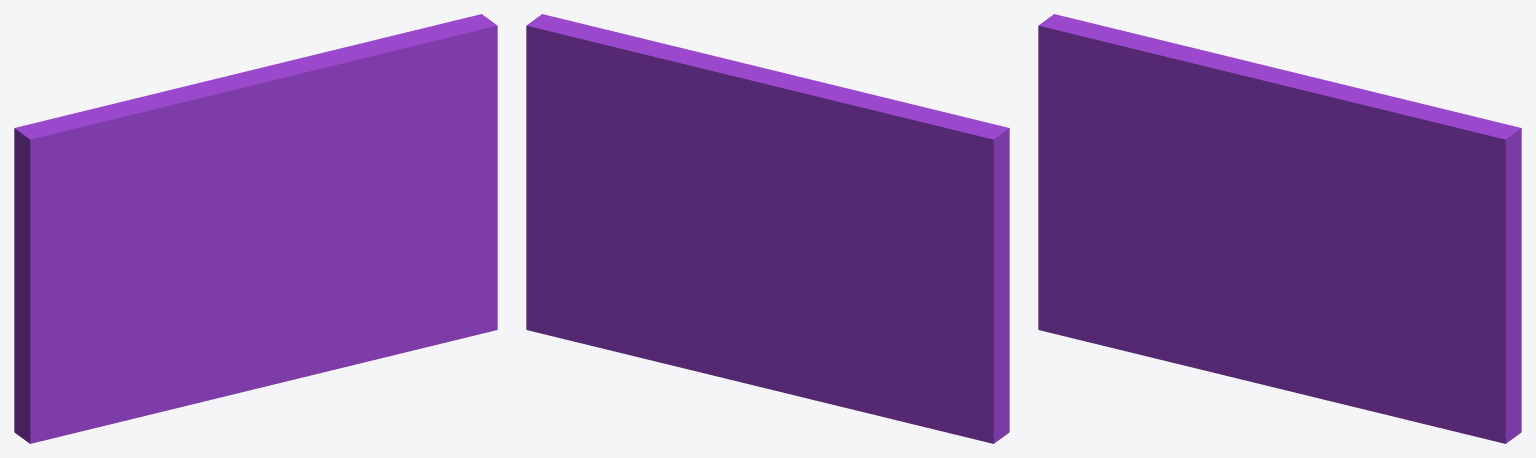
The model's file is Barrier_104_chunks.fbx.
The picture shows the model from 3 angles, left to right: view 1: azimuth 30°, elevation 25°; view 2: azimuth 150°, elevation 25°; view 3: azimuth 330°, elevation 25°; orthographic projection.
Parts seen in each view (by area): view 1: Barrier_104_0, Barrier_104_1, Barrier_104_2, Barrier_104_5, Barrier_104_3, Barrier_104_4; view 2: Barrier_104_2, Barrier_104_0, Barrier_104_5, Barrier_104_4, Barrier_104_3, Barrier_104_6, Barrier_104_1; view 3: Barrier_104_0, Barrier_104_1, Barrier_104_2, Barrier_104_5, Barrier_104_3, Barrier_104_4.
Boxes of the visible parts, left/top/right/bottom form: Barrier_104_0: left=14, top=58, right=301, bottom=356; Barrier_104_1: left=253, top=21, right=497, bottom=283; Barrier_104_2: left=300, top=14, right=497, bottom=346; Barrier_104_5: left=206, top=239, right=427, bottom=388; Barrier_104_3: left=14, top=249, right=232, bottom=412; Barrier_104_4: left=14, top=335, right=255, bottom=443; Barrier_104_2: left=526, top=18, right=767, bottom=352; Barrier_104_0: left=708, top=63, right=1009, bottom=360; Barrier_104_5: left=620, top=241, right=799, bottom=386; Barrier_104_4: left=759, top=340, right=1009, bottom=443; Barrier_104_3: left=830, top=274, right=1009, bottom=402; Barrier_104_6: left=769, top=242, right=851, bottom=342; Barrier_104_1: left=536, top=14, right=741, bottom=68; Barrier_104_0: left=1038, top=14, right=1339, bottom=242; Barrier_104_1: left=1261, top=85, right=1511, bottom=322; Barrier_104_2: left=1339, top=84, right=1521, bottom=443; Barrier_104_5: left=1215, top=233, right=1435, bottom=426; Barrier_104_3: left=1038, top=234, right=1240, bottom=306; Barrier_104_4: left=1038, top=299, right=1263, bottom=384.
Bounding box in the file's own units: 462 × 288 × 27.2.
